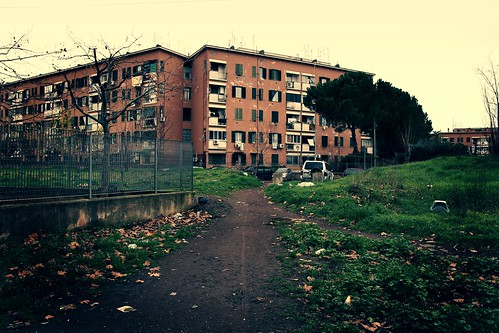building: (192, 48, 374, 175), (1, 38, 185, 160)
grass: (306, 155, 499, 333)
road: (67, 182, 298, 333)
sky: (7, 1, 499, 54)
tree: (60, 34, 173, 193), (307, 70, 415, 176)
